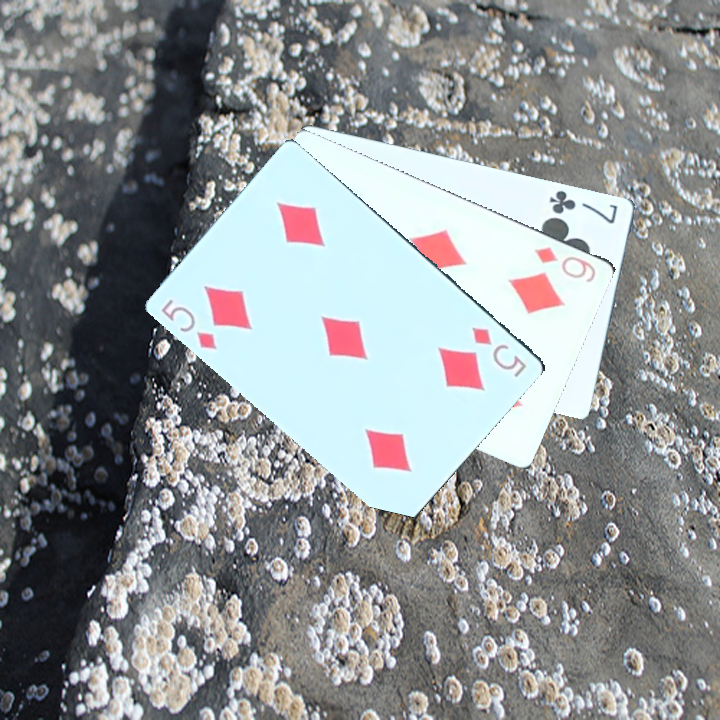5d: (156, 294, 220, 353), (467, 322, 529, 381)
6d: (530, 242, 599, 285)
7c: (545, 186, 620, 227)
